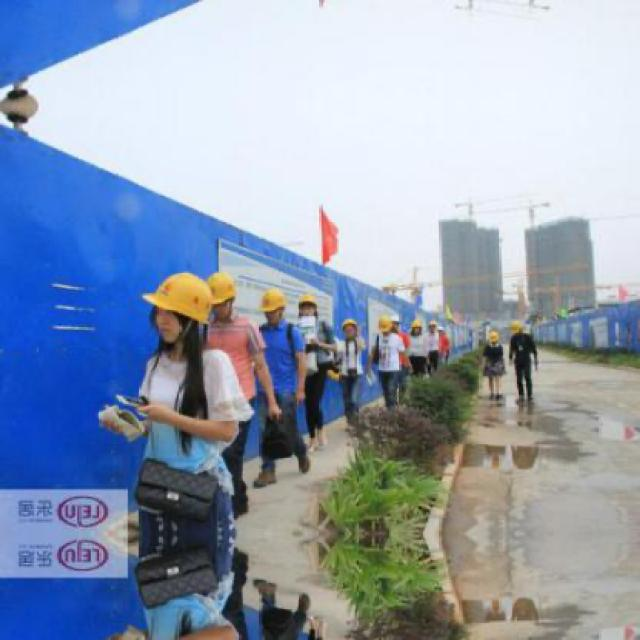con casco: (127, 272, 216, 359), (255, 288, 303, 346), (204, 282, 253, 322), (292, 300, 338, 338), (513, 322, 547, 357), (476, 328, 512, 358), (340, 322, 362, 366)
